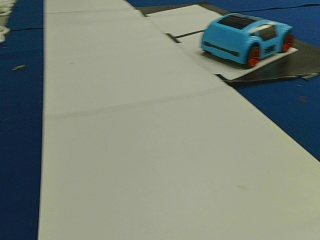car: (202, 14, 292, 68)
